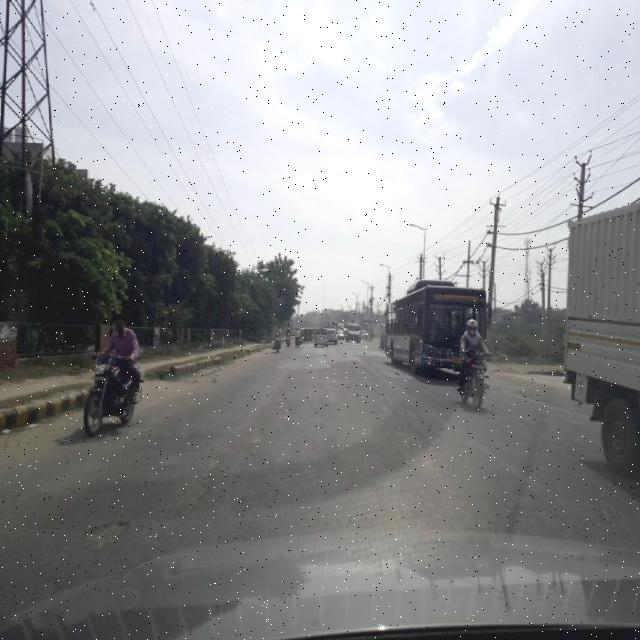D00: (178, 442, 229, 516)
D40: (76, 513, 130, 554)
